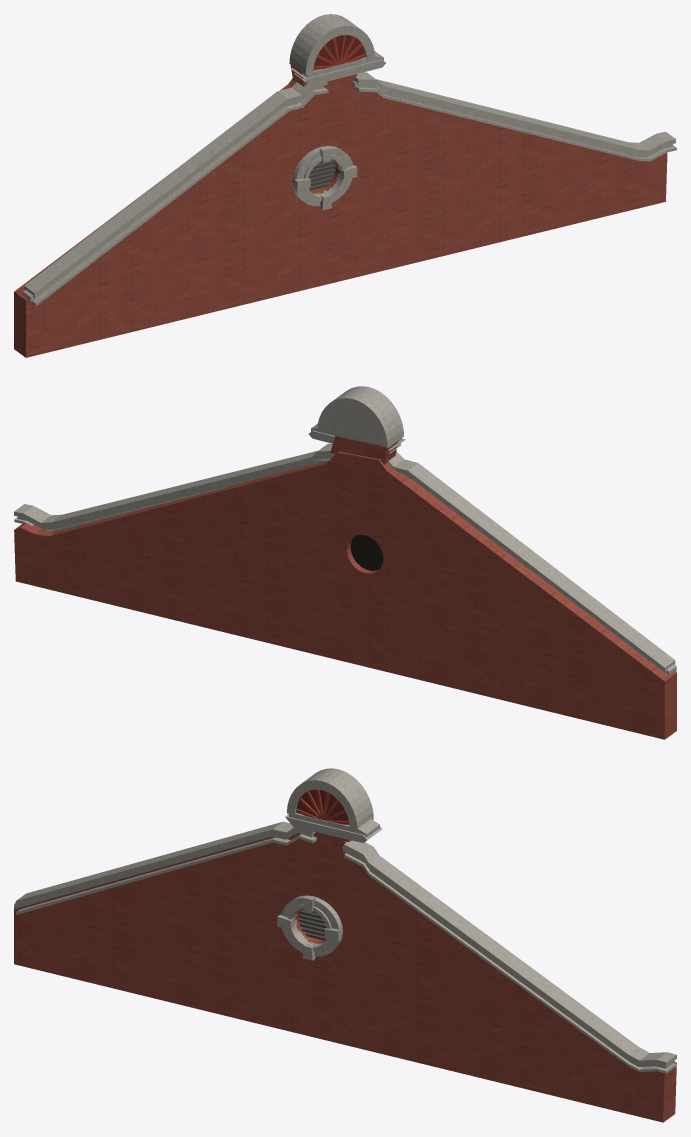
Rendered from yangpu-yangshupu-road-713-historic-residence-lod.glb.
3 renders of one model, top to bottom at view 1: azimuth 30°, elevation 25°; view 2: azimuth 150°, elevation 25°; view 3: azimuth 330°, elevation 25°, orthographic.
Visible parts, largest first — view 1: 杨树浦路713号花园住宅的红砖山花; view 2: 杨树浦路713号花园住宅的红砖山花; view 3: 杨树浦路713号花园住宅的红砖山花.
Boxes of the visible parts, x1=… form: 杨树浦路713号花园住宅的红砖山花: x1=14, y1=14, x2=676, y2=357; 杨树浦路713号花园住宅的红砖山花: x1=14, y1=386, x2=676, y2=739; 杨树浦路713号花园住宅的红砖山花: x1=14, y1=768, x2=676, y2=1122.
Bounding box in the file's own units: 12.45 × 4.77 × 0.6.
Materials: 6 (2 with a texture image).
